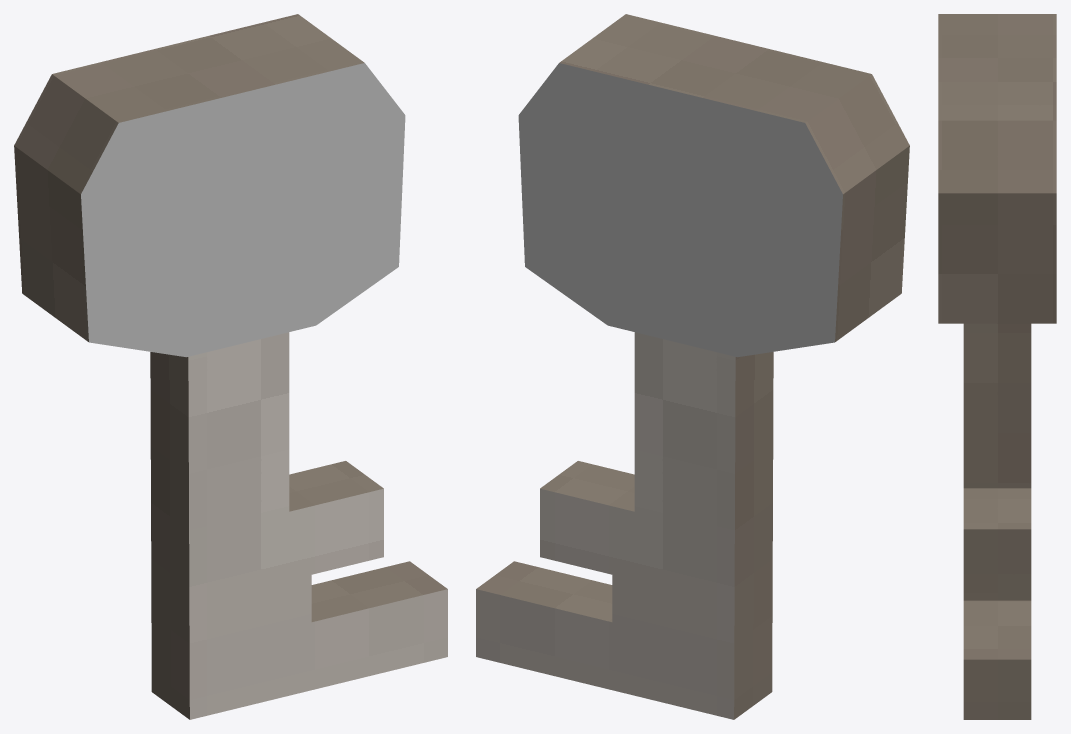
File: cutout.obj
3 views of the same model, side by side, from view 1: azimuth 30°, elevation 25°; view 2: azimuth 150°, elevation 25°; view 3: azimuth 270°, elevation 25° (orthographic). The views are drawn at different scales.
Size of the model in its own units: 0.4406 by 0.6937 by 0.1337.
